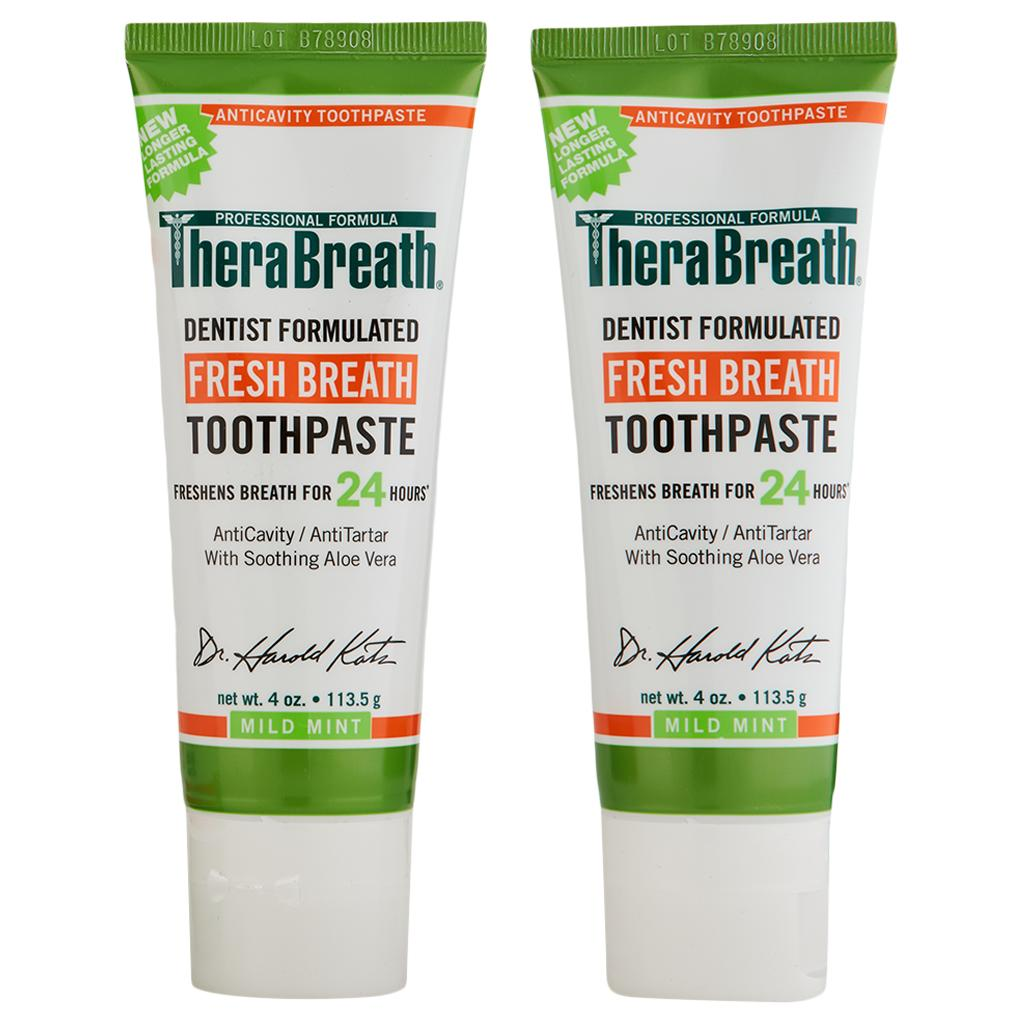toothpaste: (105, 7, 488, 1006), (515, 11, 893, 1009)
